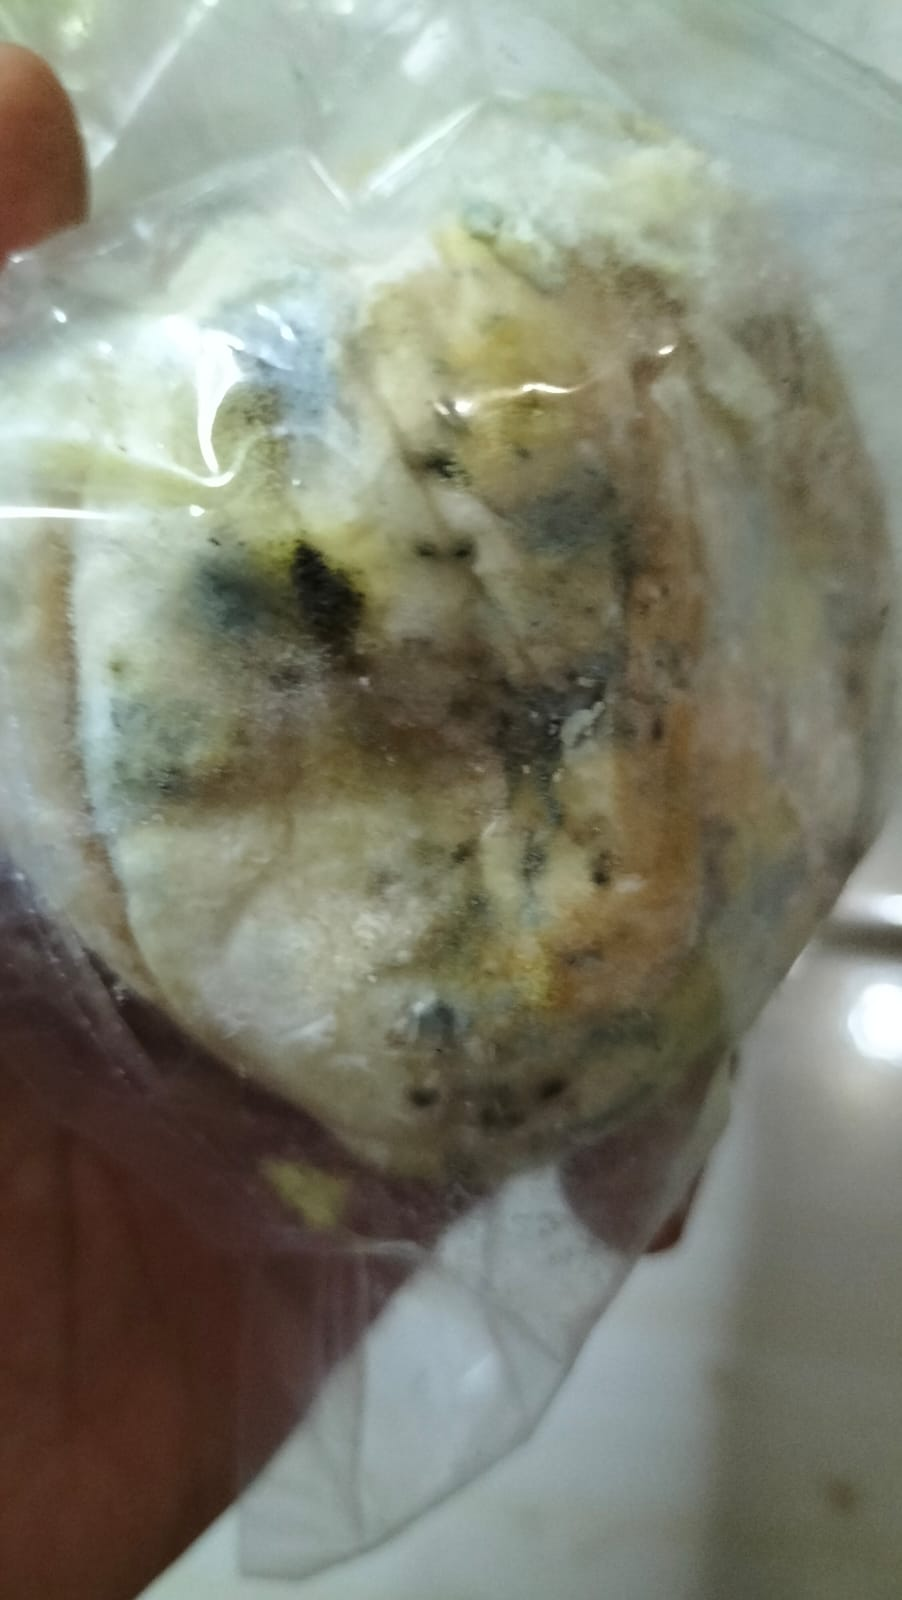mold_bread: (447, 632, 627, 827), (177, 520, 380, 689), (197, 273, 370, 466), (82, 655, 221, 833), (491, 462, 659, 586), (396, 980, 469, 1121), (410, 830, 493, 942), (398, 421, 474, 493), (505, 829, 557, 922)
